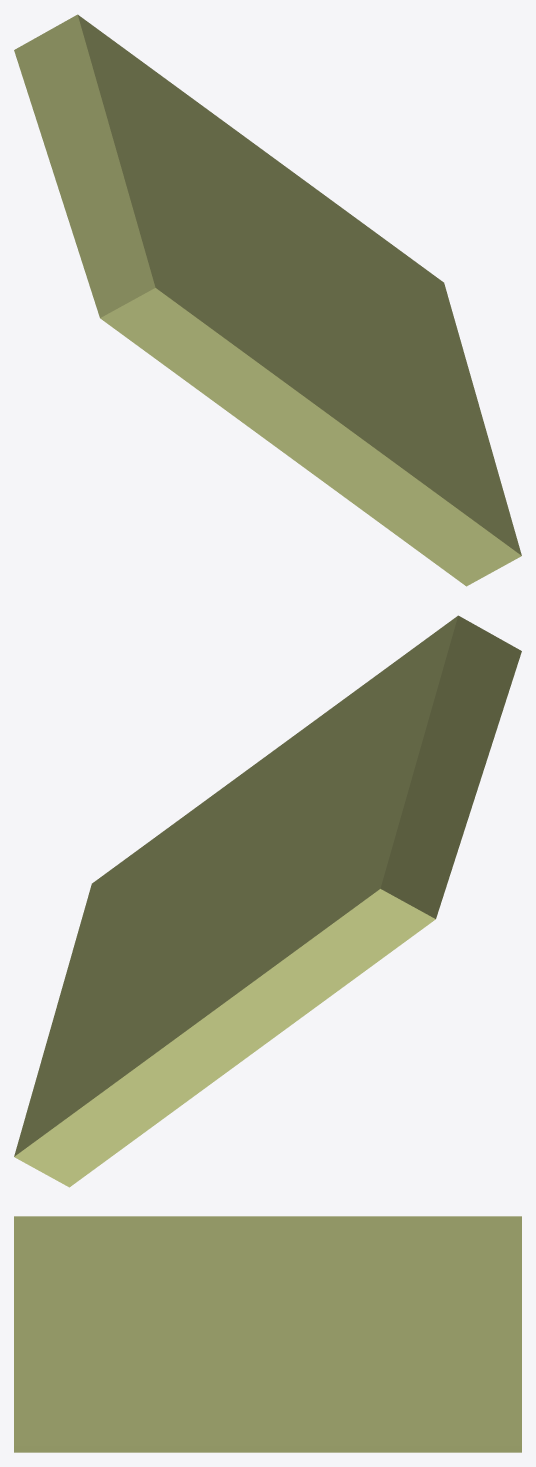
The picture shows the model from 3 angles, top to bottom: view 1: azimuth 30°, elevation 25°; view 2: azimuth 150°, elevation 25°; view 3: azimuth 270°, elevation 25°; orthographic projection. The views are drawn at different scales.
Parts seen in each view (by area): view 1: 0_1_3_2_2_2_2_0_0_2_0_2; view 2: 0_1_3_2_2_2_2_0_0_2_0_2; view 3: 0_1_3_2_2_2_2_0_0_2_0_2.
Boxes of the visible parts, x1,y1,x2,y2 form: 0_1_3_2_2_2_2_0_0_2_0_2: [14, 14, 521, 586]; 0_1_3_2_2_2_2_0_0_2_0_2: [14, 615, 521, 1187]; 0_1_3_2_2_2_2_0_0_2_0_2: [14, 1216, 521, 1452].
Size of the model in its own units: 2.01 by 4.19 by 9.
